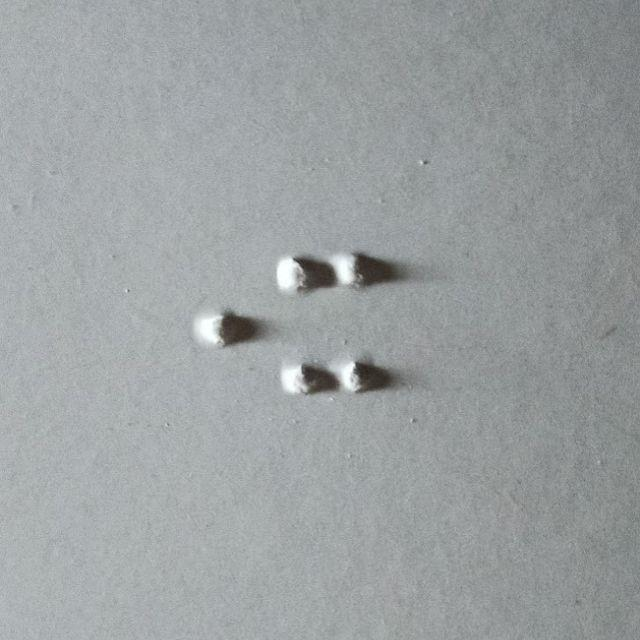dot_5: (137, 251, 239, 397)
eksamen: (275, 249, 378, 395)
